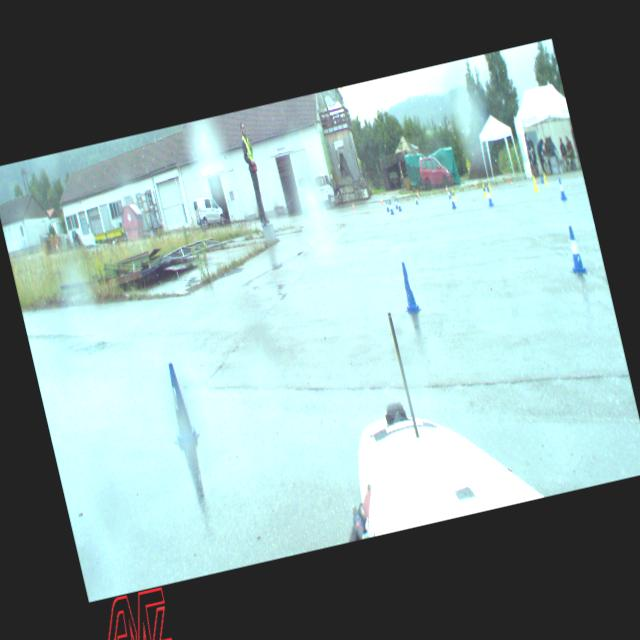blue_cone: (158, 360, 202, 450), (394, 260, 422, 314), (560, 223, 588, 276), (484, 184, 494, 207), (556, 178, 566, 200), (448, 192, 456, 208), (388, 199, 394, 214), (396, 197, 402, 211), (384, 200, 390, 212), (393, 198, 398, 208), (414, 194, 418, 204), (447, 189, 451, 199)
orange_cone: (352, 202, 354, 210), (380, 197, 382, 204)
yellow_cone: (530, 174, 538, 192), (542, 172, 548, 185), (481, 184, 487, 196), (450, 188, 456, 200)
